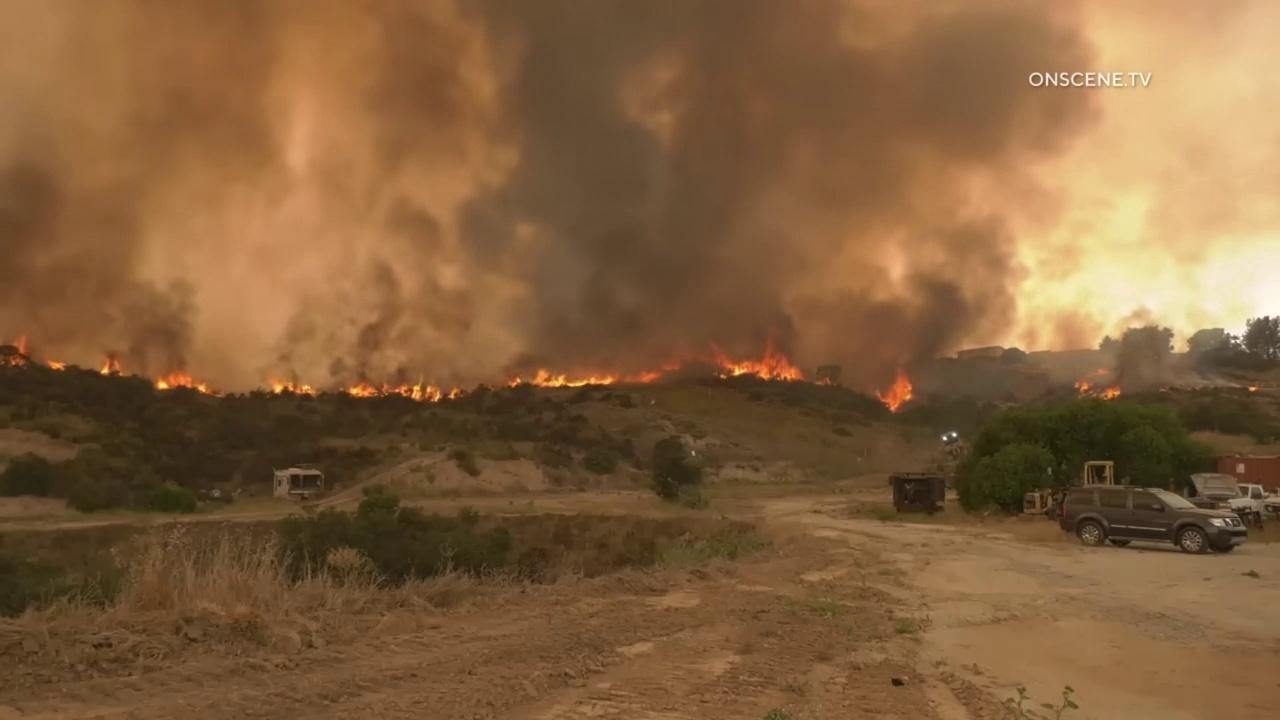fire: (707, 338, 806, 383), (527, 367, 662, 387), (349, 381, 442, 403), (875, 367, 913, 414), (156, 370, 208, 393), (287, 381, 317, 398), (1073, 380, 1096, 399), (14, 336, 28, 356), (1104, 384, 1120, 400), (271, 379, 284, 395), (662, 359, 680, 370), (448, 386, 461, 401), (9, 354, 25, 366), (508, 375, 521, 389), (48, 360, 66, 370), (99, 360, 110, 376), (114, 360, 123, 377), (1097, 368, 1106, 376), (823, 376, 831, 384), (1248, 387, 1258, 392), (339, 387, 345, 392)
smoke: (0, 0, 1280, 393)
